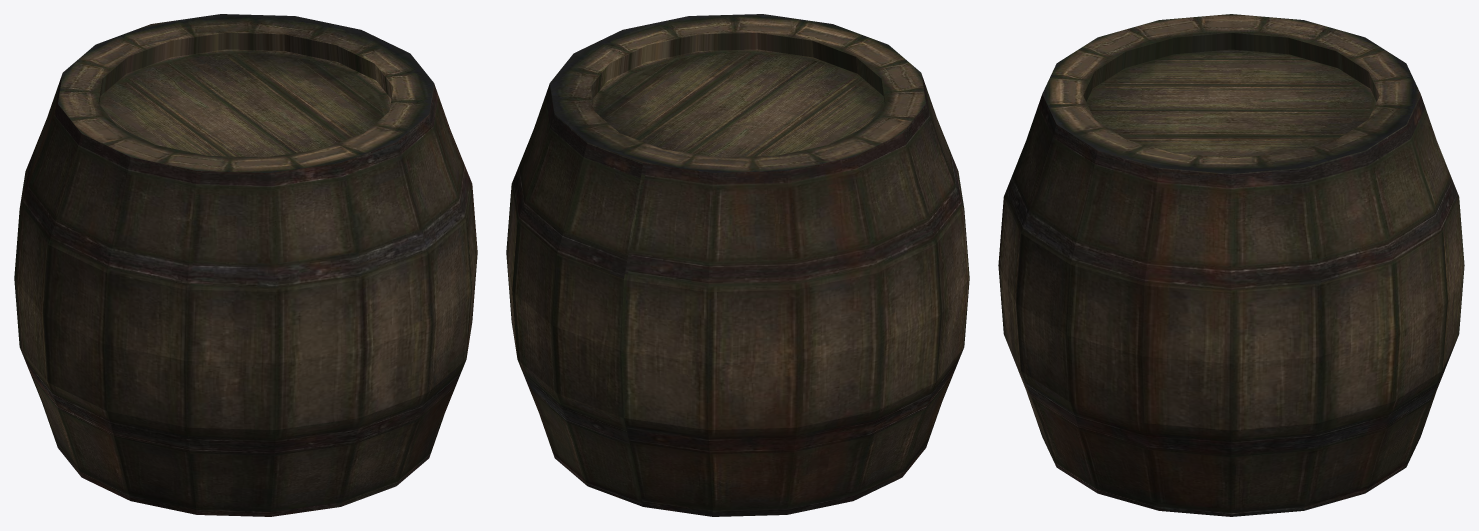
File: Barrilredondo.fbx
3 renders of one model, left to right at view 1: azimuth 30°, elevation 25°; view 2: azimuth 150°, elevation 25°; view 3: azimuth 270°, elevation 25°, orthographic.
Parts seen in each view (by area): view 1: Cylinder; view 2: Cylinder; view 3: Cylinder.
Part boxes in pixels (bbox=[...]): Cylinder: bbox=[14, 14, 477, 516]; Cylinder: bbox=[506, 14, 969, 516]; Cylinder: bbox=[998, 14, 1464, 516].
Bounding box in the file's own units: 256 × 208 × 256.
1 material, 1 textured.
